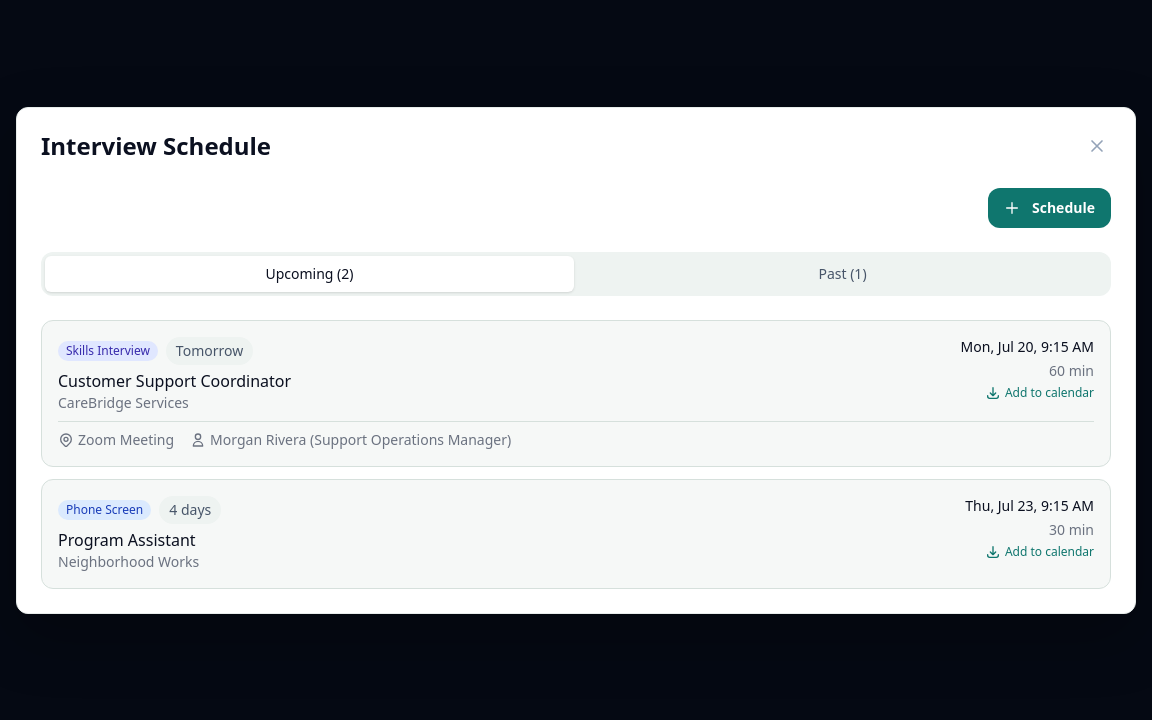
Test case: InterviewScheduler › past interviews tab › switches to past tab when clicked
The width and height of the screenshot is (1152, 720).
Click the button "Past (1)" at (842, 274), box [578,256,1107,292]
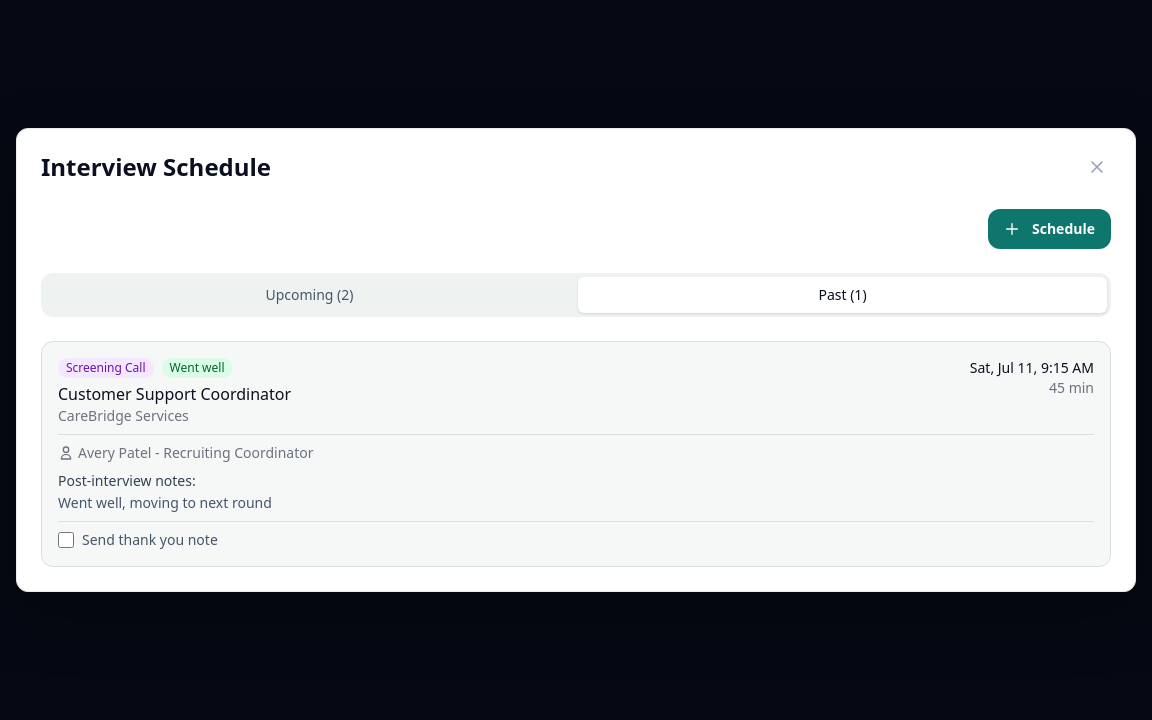
Expected: the text "Screening Call" is shown, [58,358,154,378]
